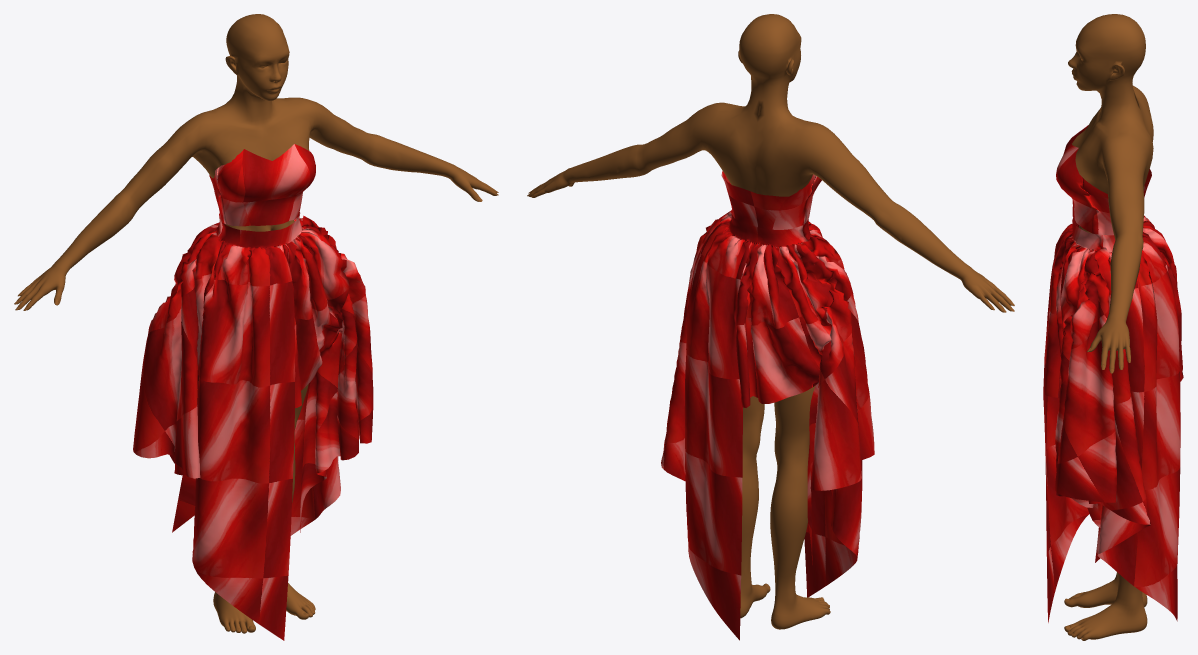
File: dress2.glb
3 renders of one model, left to right at view 1: azimuth 30°, elevation 25°; view 2: azimuth 150°, elevation 25°; view 3: azimuth 270°, elevation 25°, orthographic.
Parts seen in each view (by area): view 1: Project 1, Body; view 2: Project 1, Body; view 3: Project 1, Body.
Boxes of the visible parts, x1,y1,x2,y2 form: Project 1: [133, 144, 373, 640]; Body: [16, 14, 498, 633]; Project 1: [661, 171, 874, 640]; Body: [528, 14, 1011, 629]; Project 1: [1043, 125, 1183, 622]; Body: [1064, 14, 1153, 640].
Size of the model in its own units: 1.58 by 1.87 by 0.3896.
2 materials, 1 textured.
